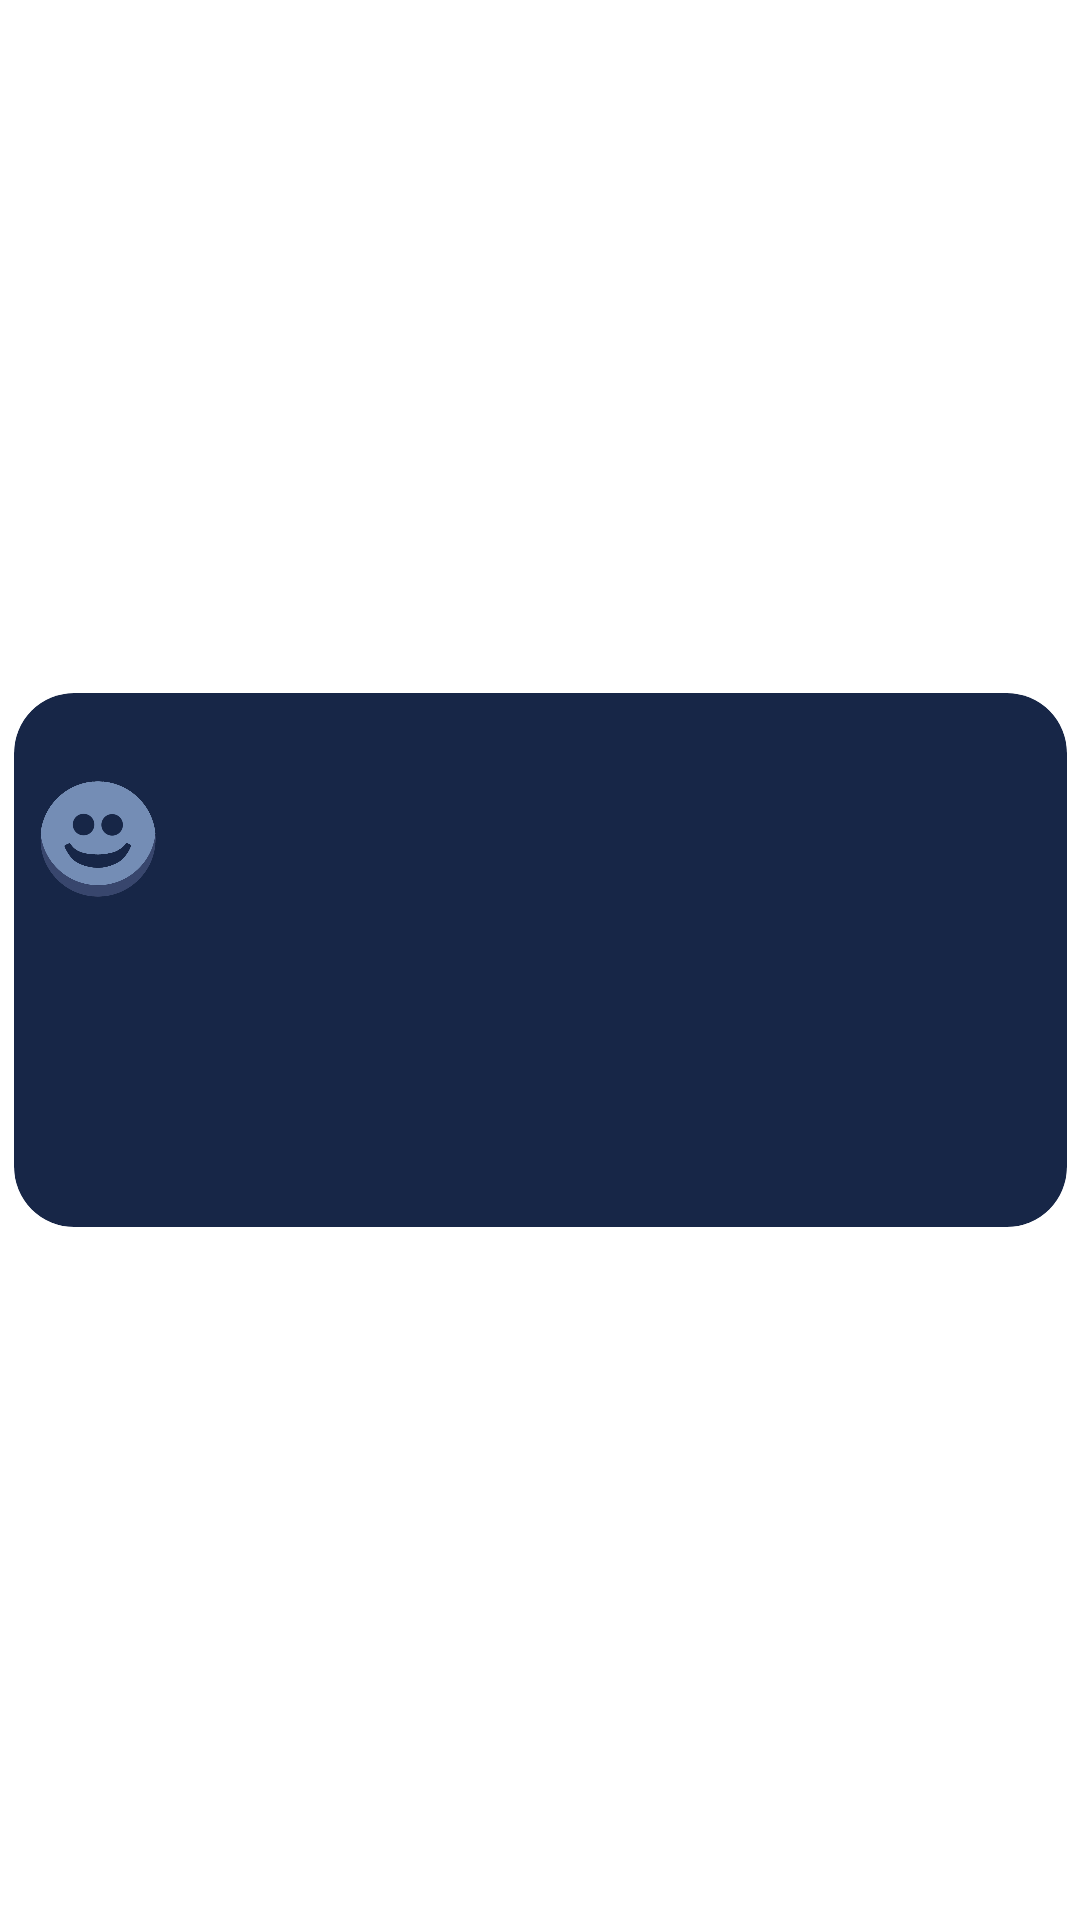

Screen size 1080px x 1920px. Icon name, then its box in pixels as (x1=x1, y1=y1, x2=x2, y2=y2):
allowedemoji: (x1=41, y1=781, x2=156, y2=897)
